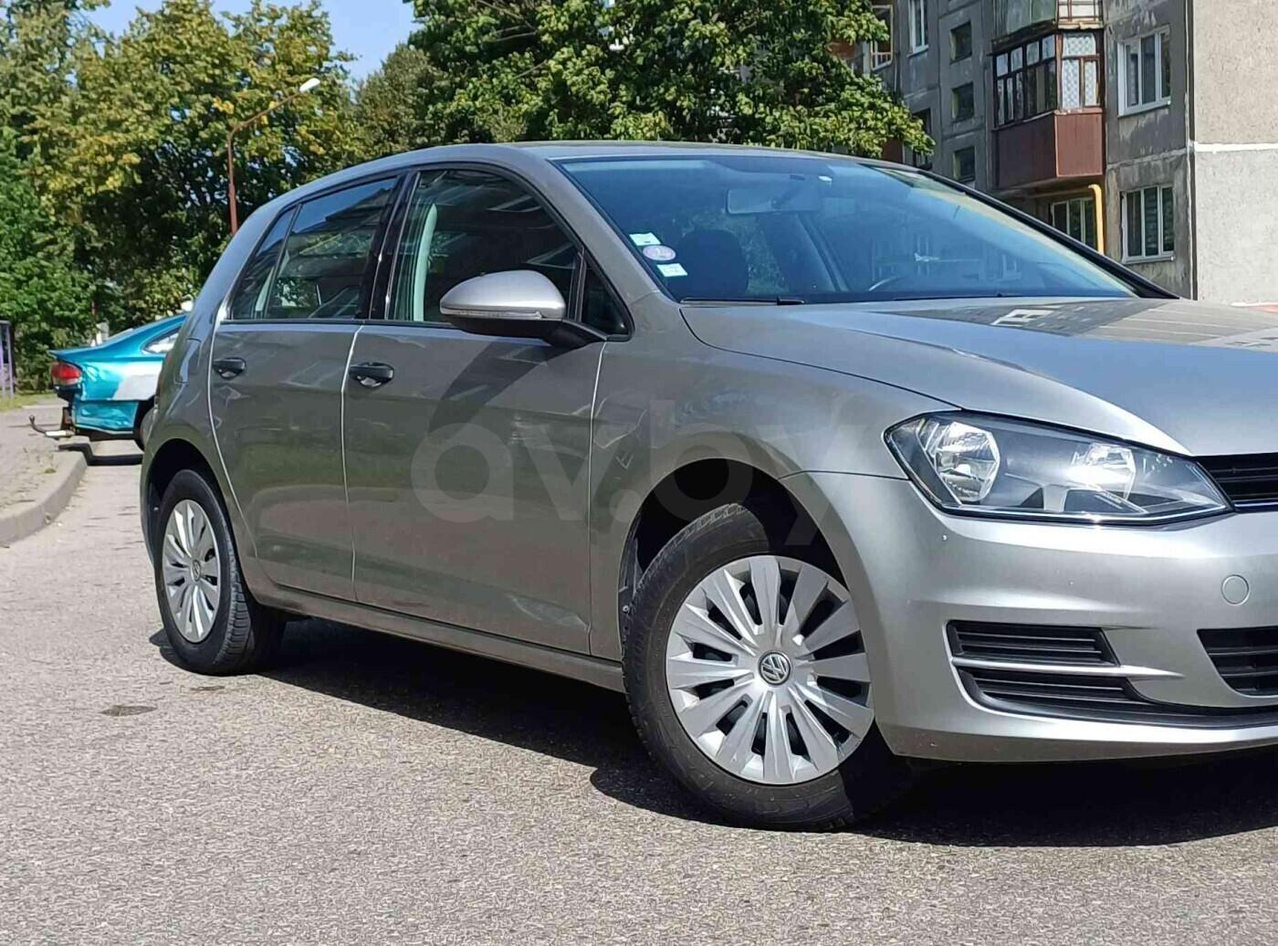Golf_2012-2017: (139, 132, 1278, 824)
